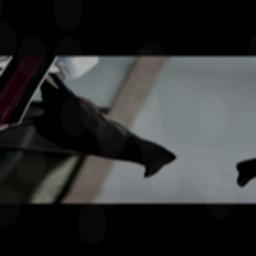Crow: (0, 70, 221, 180)
